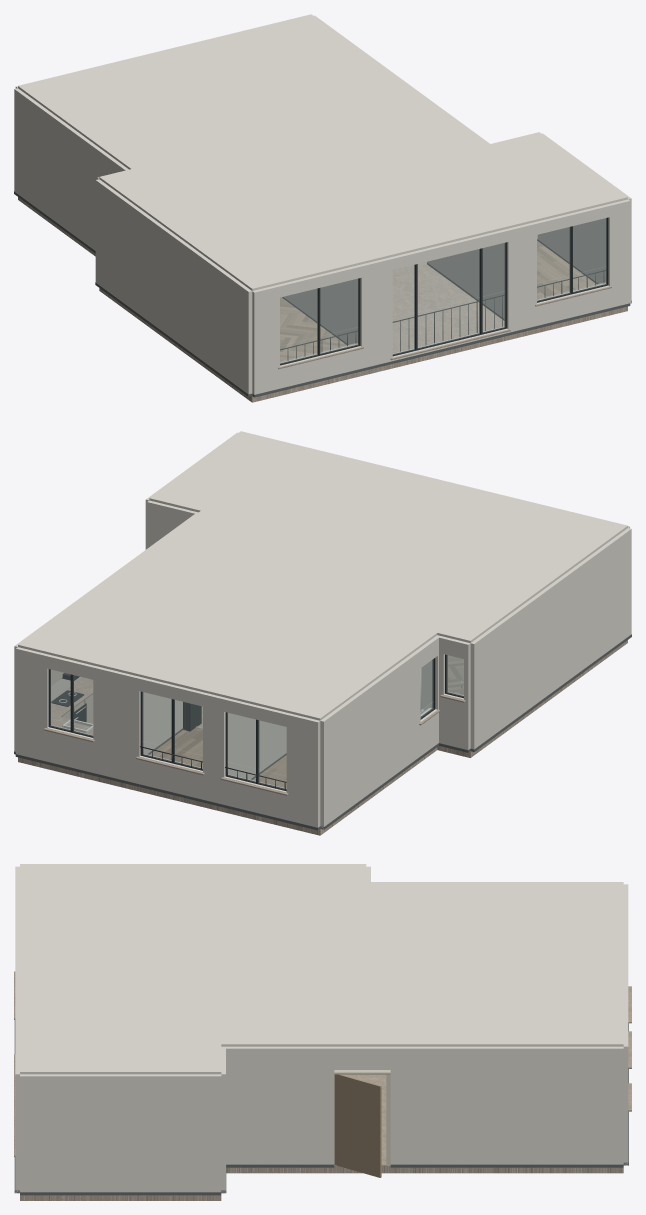
Rendered from apartment-v02.glb.
3 views of the same model, one above another, from view 1: azimuth 30°, elevation 25°; view 2: azimuth 150°, elevation 25°; view 3: azimuth 270°, elevation 25° (orthographic). The views are drawn at different scales.
Visible parts, largest first — view 1: Ceiling_main, wall_west_south_0_0_upper, wall_west_south_0_0_lower, Continuous_public_stone, wall_west_north_0_0_upper, wall_west_north_0_0_lower, Living_south_glass_upper.001, Apartment_floor_slab, wall_living_se_2_0_lower, Living_south_glass_lower.001, wall_south_2_0_upper, floor_master (+32 smaller); view 2: Ceiling_main, wall_west_south_0_0_upper, wall_west_south_0_0_lower, wall_west_north_0_0_upper, wall_west_north_0_0_lower, wall_north_4_0_upper, Apartment_floor_slab, wall_north_0_0_upper, wall_north_6_0_upper, wall_north_4_0_lower, wall_northwest_x_0_0_lower, wall_north_3_0_lower (+26 smaller); view 3: Ceiling_main, wall_east_north_0_0_upper, wall_east_south_0_0_upper, wall_east_north_0_0_lower, wall_east_south_0_0_lower, wall_east_elevator_0_0_upper, wall_east_elevator_0_0_lower, Apartment_floor_slab, door_entry_lower, door_entry_upper, wall_east_north_1_1_upper, skirting_east_north_0 (+4 smaller).
Boxes of the visible parts, box(x1,y1,x2,y2) form: Ceiling_main: box(18, 14, 627, 290); wall_west_south_0_0_upper: box(95, 179, 252, 353); wall_west_south_0_0_lower: box(95, 242, 252, 393); Continuous_public_stone: box(392, 262, 553, 352); wall_west_north_0_0_upper: box(14, 88, 111, 209); wall_west_north_0_0_lower: box(14, 151, 95, 250); Living_south_glass_upper.001: box(418, 249, 479, 312); Apartment_floor_slab: box(18, 197, 627, 402); wall_living_se_2_0_lower: box(427, 252, 504, 317); Living_south_glass_lower.001: box(418, 297, 479, 348); wall_south_2_0_upper: box(357, 257, 392, 327); floor_master: box(280, 297, 346, 361); Ceiling_main: box(18, 431, 627, 720); wall_west_south_0_0_upper: box(470, 528, 631, 707); wall_west_south_0_0_lower: box(470, 593, 631, 749); wall_west_north_0_0_upper: box(320, 650, 420, 785); wall_west_north_0_0_lower: box(320, 715, 420, 829); wall_north_4_0_upper: box(93, 666, 143, 742); Apartment_floor_slab: box(18, 640, 627, 835); wall_north_0_0_upper: box(286, 713, 320, 785); wall_north_6_0_upper: box(16, 647, 51, 719); wall_north_4_0_lower: box(93, 731, 143, 783); wall_northwest_x_0_0_lower: box(228, 723, 286, 778); wall_north_3_0_lower: box(139, 754, 202, 799); Ceiling_main: box(20, 864, 623, 1074); wall_east_north_0_0_upper: box(390, 1046, 623, 1118); wall_east_south_0_0_upper: box(20, 1074, 221, 1146); wall_east_north_0_0_lower: box(390, 1118, 623, 1164); wall_east_south_0_0_lower: box(20, 1146, 221, 1192); wall_east_elevator_0_0_upper: box(221, 1046, 328, 1118); wall_east_elevator_0_0_lower: box(226, 1118, 328, 1164); Apartment_floor_slab: box(20, 1165, 623, 1200); door_entry_lower: box(334, 1117, 381, 1177); door_entry_upper: box(334, 1074, 381, 1130); wall_east_north_1_1_upper: box(334, 1046, 390, 1069); skirting_east_north_0: box(390, 1164, 623, 1167).
Bounding box in the file's own units: 10.72 × 3.04 × 13.2.
17 materials, 8 textured.
